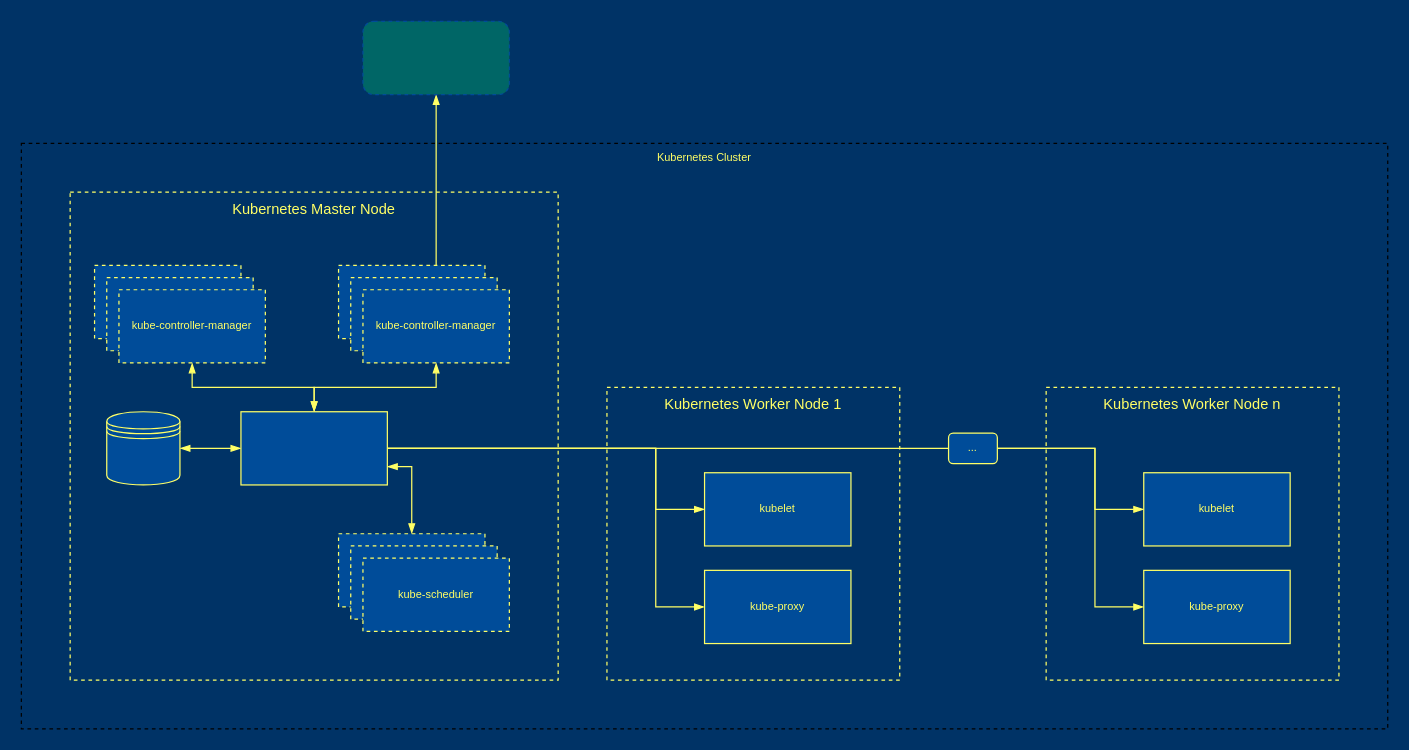
This 1409x750 diagram has some shape labels left out. Here are the shapes that lost their labels. From the top down, the centre of each, then its label:
At point (435, 57): "Cloud".
At point (143, 448): "etcd".
At point (313, 448): "kube-apiserver".
